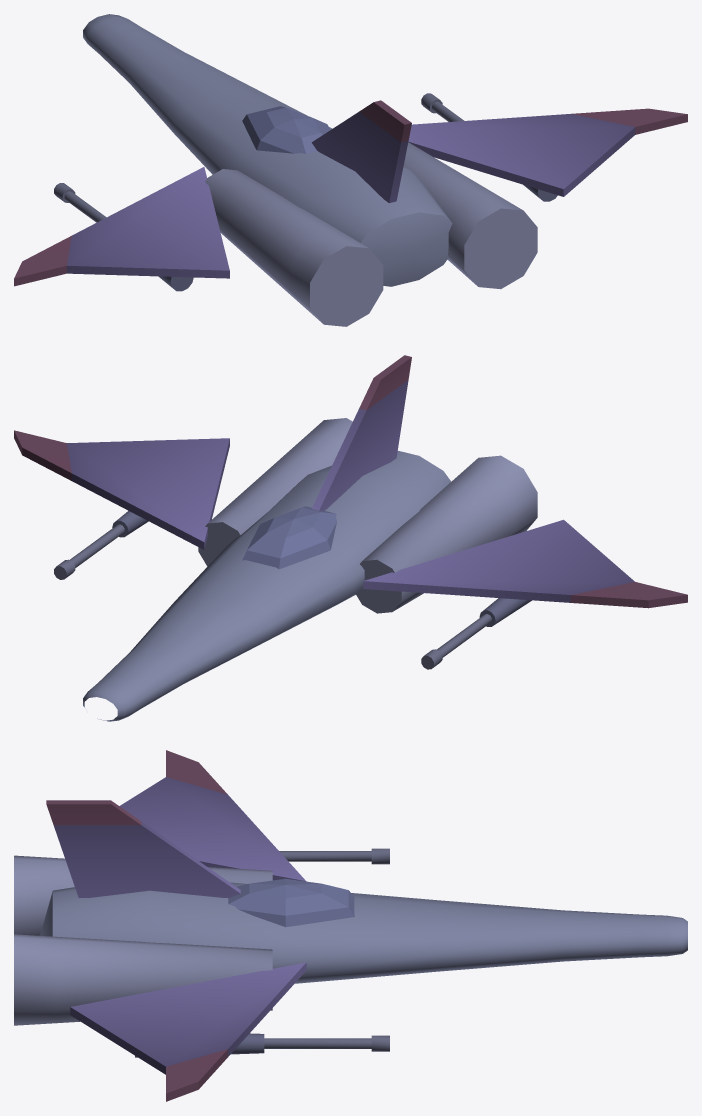
File: demo-ship-low.glb
3 views of the same model, one above another, from view 1: azimuth 30°, elevation 25°; view 2: azimuth 150°, elevation 25°; view 3: azimuth 270°, elevation 25° (orthographic). The views are drawn at different scales.
Visible parts, largest first — view 1: hull, engine_l, wing_r, wing_l, engine_r, fin, canopy, wing_tip_r, wing_tip_l, fin_cap, gun_barrel_l; view 2: hull, wing_l, engine_l, wing_r, engine_r, fin, canopy, wing_tip_l, wing_tip_r, fin_cap, gun_pod_l, gun_barrel_l (+1 smaller); view 3: hull, engine_r, wing_r, fin, wing_l, canopy, engine_l, fin_cap, wing_tip_r, wing_tip_l, gun_barrel_r, gun_barrel_l.
Part boxes in pixels (x1=…): hull: x1=83, y1=14, x2=452, y2=286; engine_l: x1=205, y1=169, x2=383, y2=326; wing_r: x1=408, y1=114, x2=635, y2=196; wing_l: x1=67, y1=167, x2=229, y2=278; engine_r: x1=403, y1=142, x2=537, y2=289; fin: x1=311, y1=112, x2=408, y2=203; canopy: x1=242, y1=106, x2=329, y2=153; wing_tip_r: x1=571, y1=108, x2=687, y2=134; wing_tip_l: x1=14, y1=235, x2=71, y2=286; fin_cap: x1=359, y1=100, x2=411, y2=142; gun_barrel_l: x1=64, y1=191, x2=106, y2=222; hull: x1=83, y1=450, x2=451, y2=721; wing_l: x1=363, y1=519, x2=634, y2=602; engine_l: x1=356, y1=455, x2=537, y2=613; wing_r: x1=67, y1=438, x2=229, y2=549; engine_r: x1=198, y1=418, x2=352, y2=566; fin: x1=311, y1=380, x2=408, y2=510; canopy: x1=242, y1=506, x2=336, y2=569; wing_tip_l: x1=570, y1=582, x2=687, y2=608; wing_tip_r: x1=14, y1=430, x2=71, y2=480; fin_cap: x1=359, y1=355, x2=411, y2=410; gun_pod_l: x1=479, y1=598, x2=531, y2=626; gun_barrel_l: x1=437, y1=614, x2=491, y2=657; hull: x1=40, y1=882, x2=687, y2=983; engine_r: x1=14, y1=934, x2=272, y2=1025; wing_r: x1=70, y1=962, x2=306, y2=1074; fin: x1=53, y1=822, x2=240, y2=897; wing_l: x1=119, y1=777, x2=306, y2=881; canopy: x1=228, y1=878, x2=354, y2=927; engine_l: x1=14, y1=855, x2=272, y2=935; fin_cap: x1=46, y1=800, x2=141, y2=825; wing_tip_r: x1=166, y1=1049, x2=227, y2=1101; wing_tip_l: x1=166, y1=750, x2=227, y2=794; gun_barrel_r: x1=264, y1=1038, x2=371, y2=1048; gun_barrel_l: x1=279, y1=851, x2=371, y2=861.
Size of the model in its own units: 6.28 by 1.54 by 5.21.
Materials: 1 (1 with a texture image).
